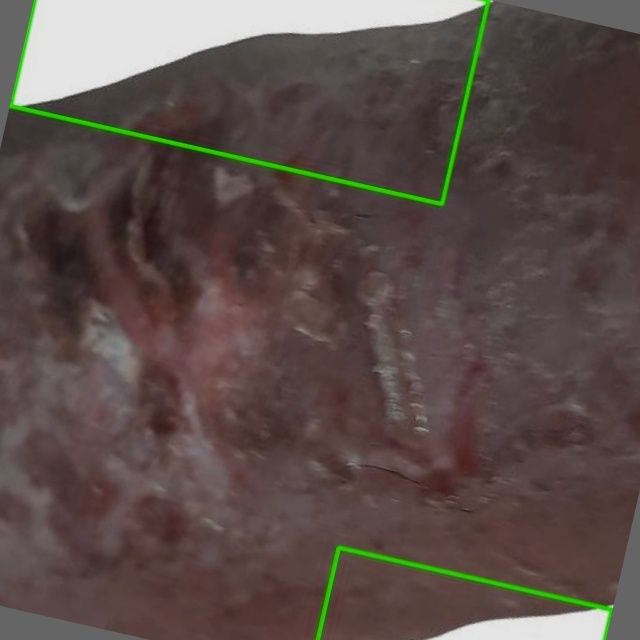Eczema: (10, 0, 488, 204)
